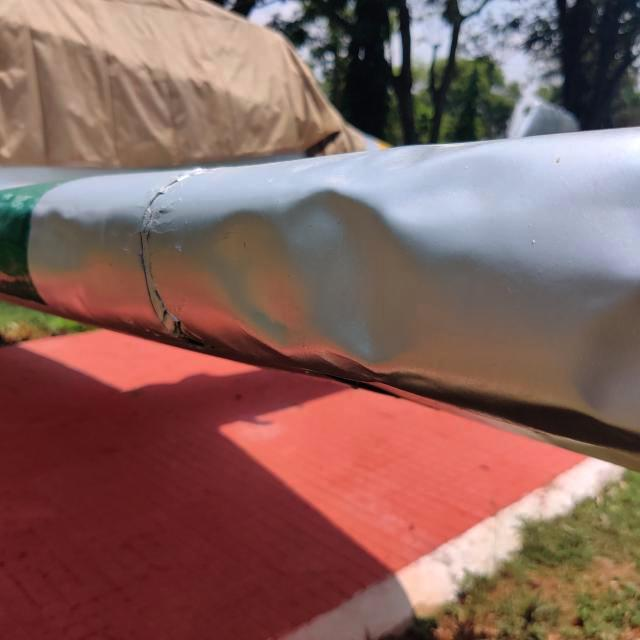dent: (190, 190, 474, 392), (580, 286, 640, 432), (0, 197, 88, 276)
